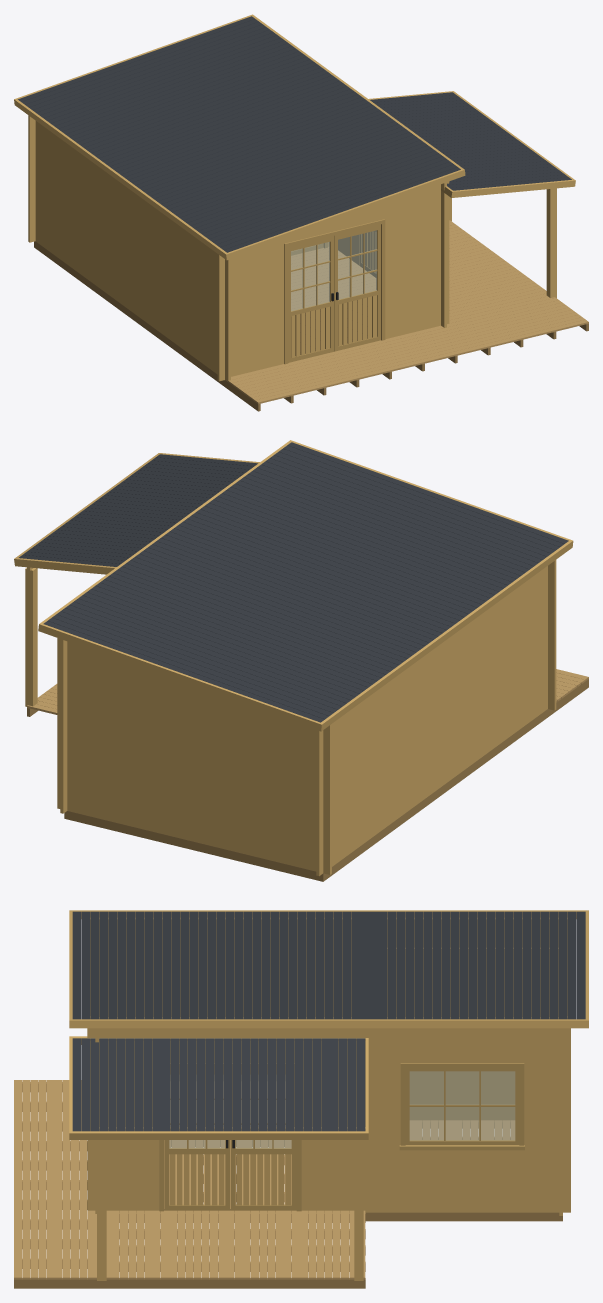
The model's file is елена_6_4_44_мм_односкатная_крытая_терраса.glb.
The picture shows the model from 3 angles, top to bottom: view 1: azimuth 30°, elevation 25°; view 2: azimuth 150°, elevation 25°; view 3: azimuth 270°, elevation 25°; orthographic projection. The views are drawn at different scales.
Parts seen in each view (by area): view 1: roof, walls, deck (×2), floor, Елена 6×4 (44 мм, односкатная, крытая терраса), object 58, object 76, object 83, object 84; view 2: roof, walls, Елена 6×4 (44 мм, односкатная, крытая терраса), deck; view 3: roof, walls, deck (×2), Елена 6×4 (44 мм, односкатная, крытая терраса), object 131, floor, object 138, object 137, object 130, object 136, object 135.
Part boxes in pixels (x1,y1,x2,y2): roof: [14, 14, 575, 260]; walls: [28, 115, 556, 381]; deck (×2): [225, 220, 588, 404]; floor: [291, 247, 376, 354]; Елена 6×4 (44 мм, односкатная, крытая терраса): [34, 241, 588, 411]; object 58: [291, 242, 329, 310]; object 76: [338, 230, 376, 299]; object 83: [284, 243, 288, 364]; object 84: [381, 219, 385, 340]; roof: [14, 440, 573, 731]; walls: [25, 560, 556, 876]; Елена 6×4 (44 мм, односкатная, крытая терраса): [27, 679, 588, 881]; deck: [556, 669, 588, 702]; roof: [69, 910, 588, 1139]; walls: [87, 918, 570, 1280]; deck (×2): [14, 1080, 365, 1279]; Елена 6×4 (44 мм, односкатная, крытая терраса): [14, 1082, 562, 1288]; object 131: [410, 1071, 514, 1140]; floor: [164, 1082, 515, 1210]; object 138: [399, 1145, 524, 1150]; object 137: [400, 1063, 523, 1068]; object 130: [405, 1140, 519, 1144]; object 136: [519, 1063, 524, 1145]; object 135: [400, 1063, 405, 1145].
Size of the model in its own units: 6.08 by 2.81 by 7.07.
